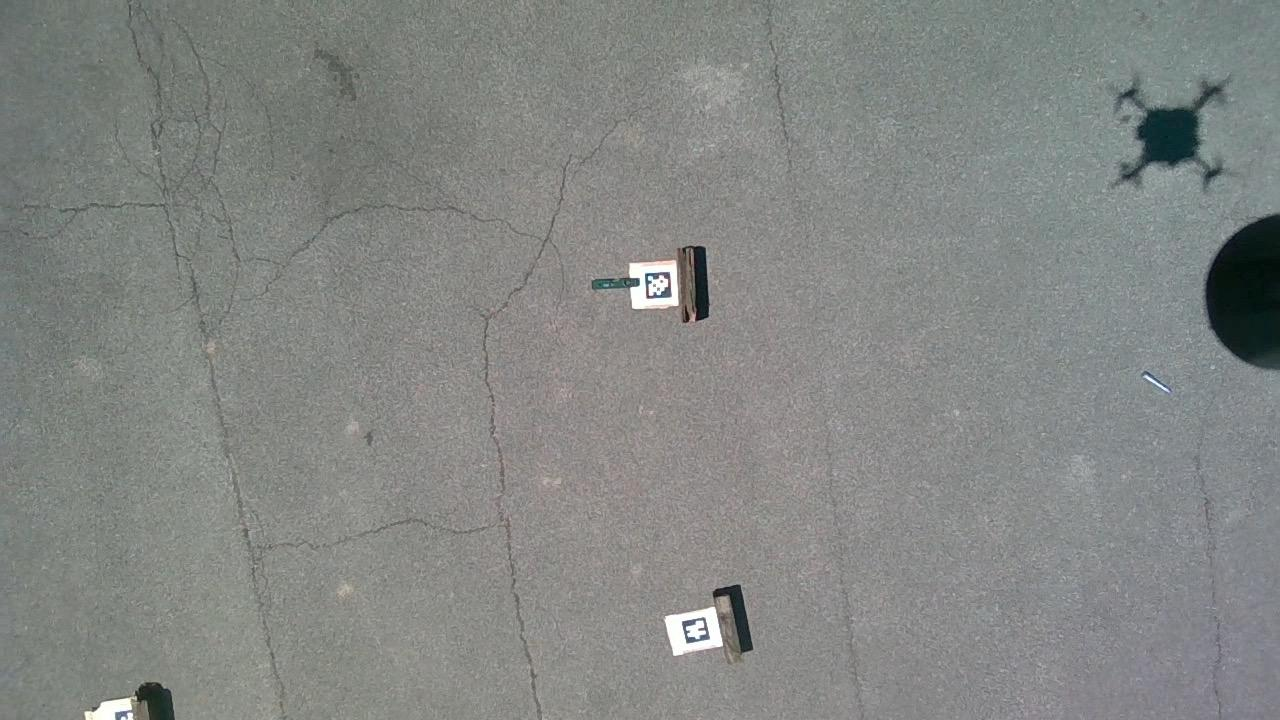probes: (1141, 371, 1173, 393)
